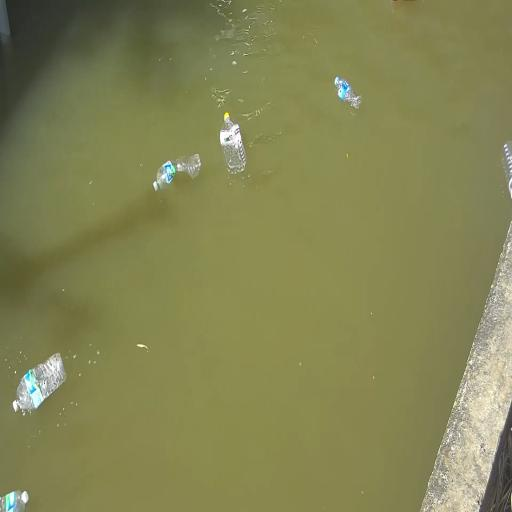plastic: (13, 353, 66, 415), (153, 154, 201, 191), (220, 113, 246, 173), (335, 77, 361, 109), (0, 491, 28, 511), (502, 142, 511, 197)
